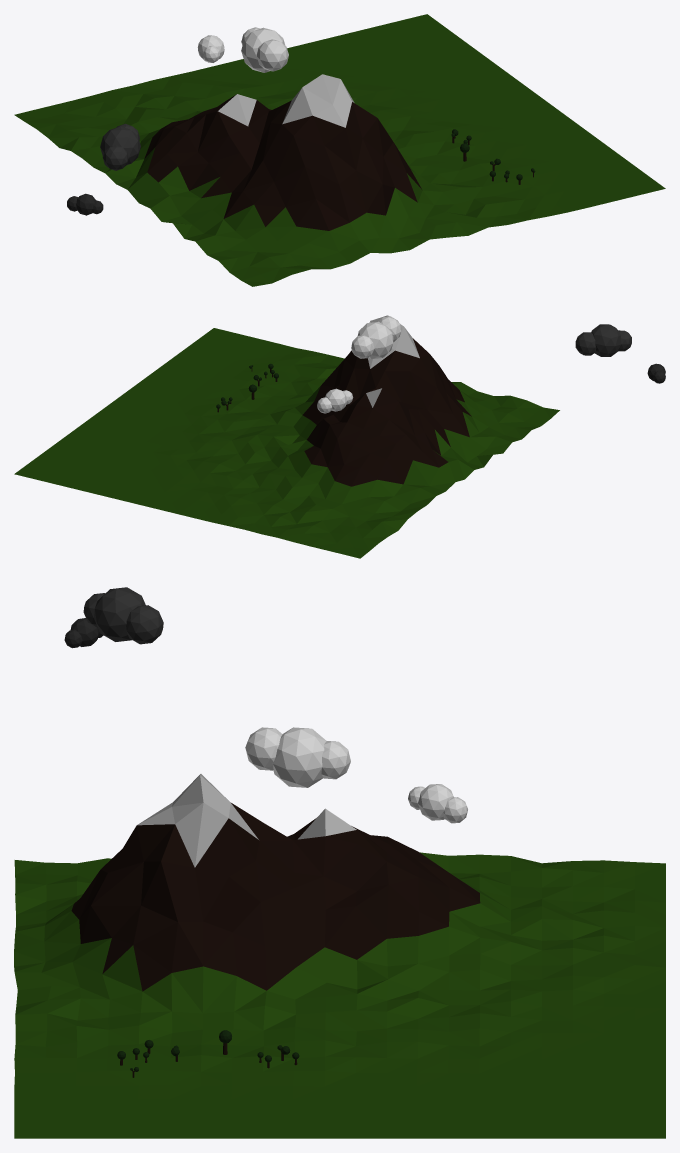
The model's file is mountains.obj.
3 renders of one model, top to bottom at view 1: azimuth 30°, elevation 25°; view 2: azimuth 150°, elevation 25°; view 3: azimuth 270°, elevation 25°, orthographic. The views are drawn at different scales.
Visible parts, largest first — view 1: Plane; view 2: Plane; view 3: Plane.
Boxes of the visible parts, left/top/right/bottom form: Plane: left=14, top=14, right=665, bottom=286; Plane: left=14, top=315, right=665, bottom=558; Plane: left=14, top=587, right=665, bottom=1138.
Bounding box in the file's own units: 19.3 × 5.04 × 14.05.
